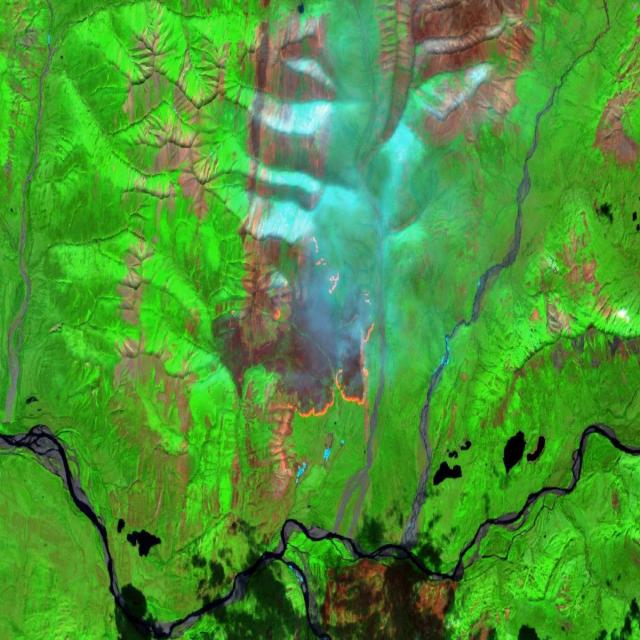fire: (281, 225, 384, 438)
